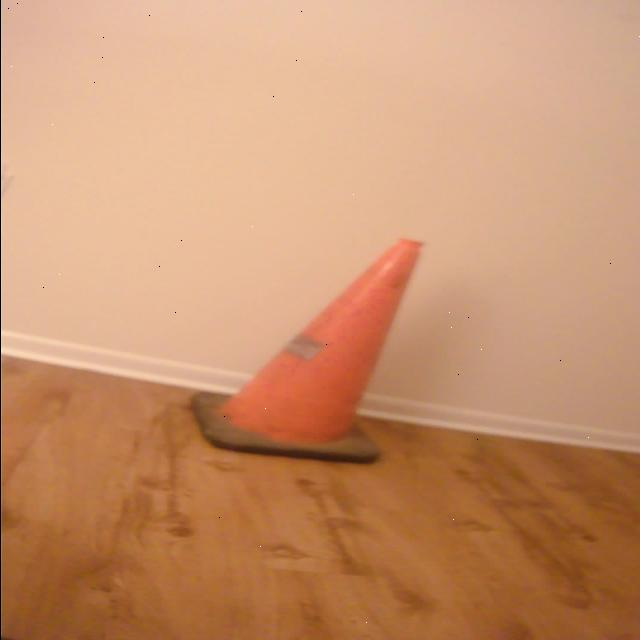traffic cone: (180, 235, 432, 471)
